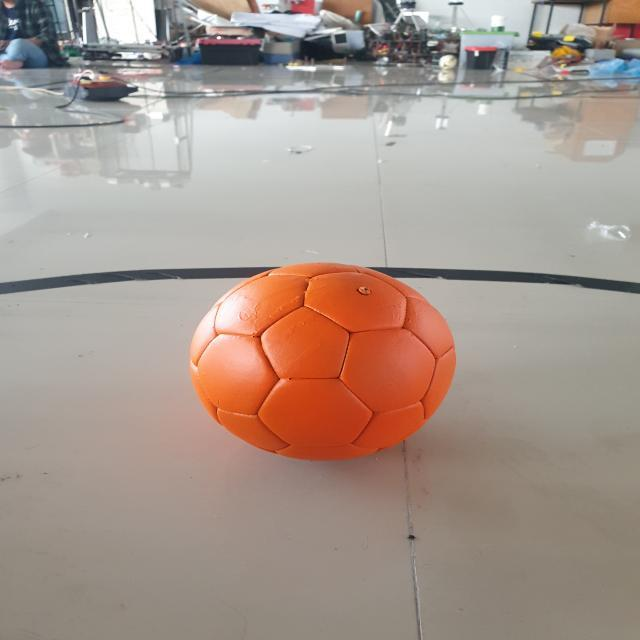bola: (178, 252, 472, 469)
